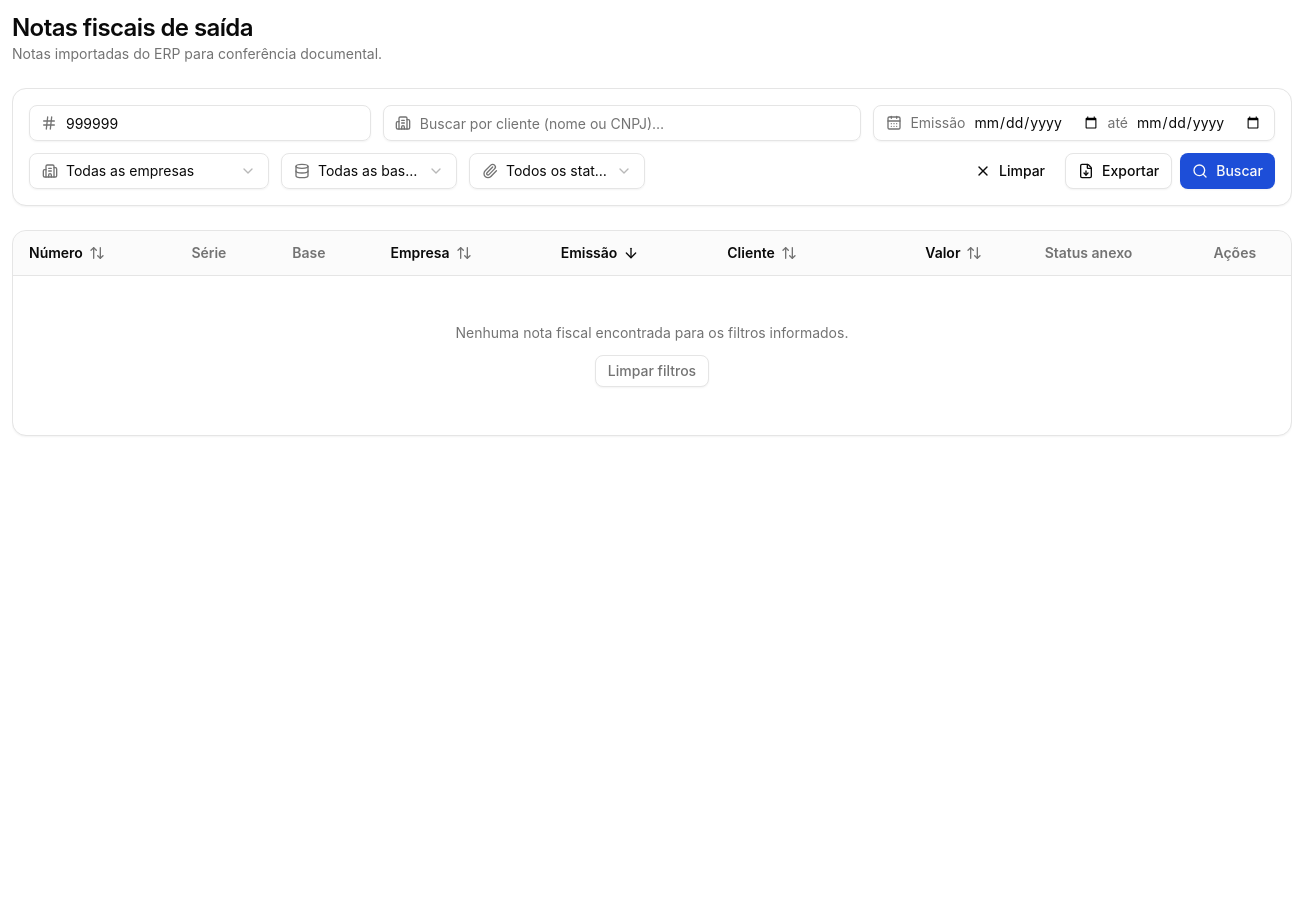
it: NotasFiscaisPage › lê os filtros da URL e permite limpá-los quando não há resultados
Check: the text "Nenhuma nota fiscal encontrada" is shown, box 456,324 -> 848,341
Check: the field named "número da NF" holds "999999", box 29,105 -> 371,141
Click the button "Limpar filtros" at (652,371), box 595,355 -> 709,387
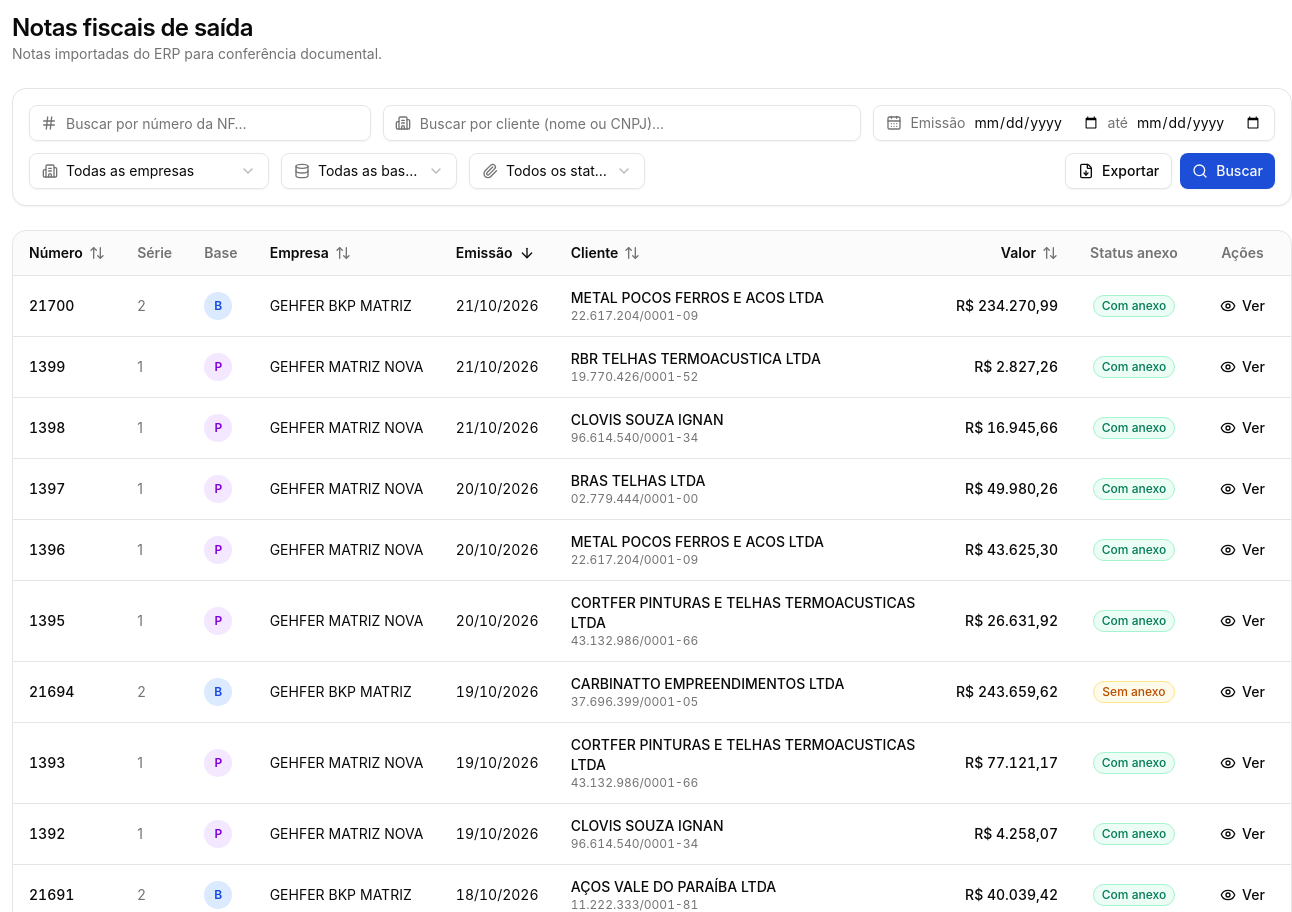
Check: the field labelled "número da NF" is empty, box 29,105 -> 371,141
